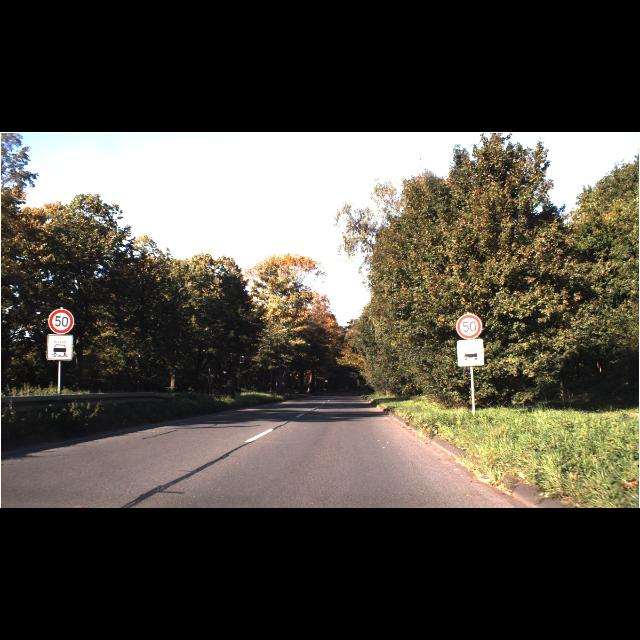prohibitory: (456, 314, 482, 340), (48, 308, 74, 334)
